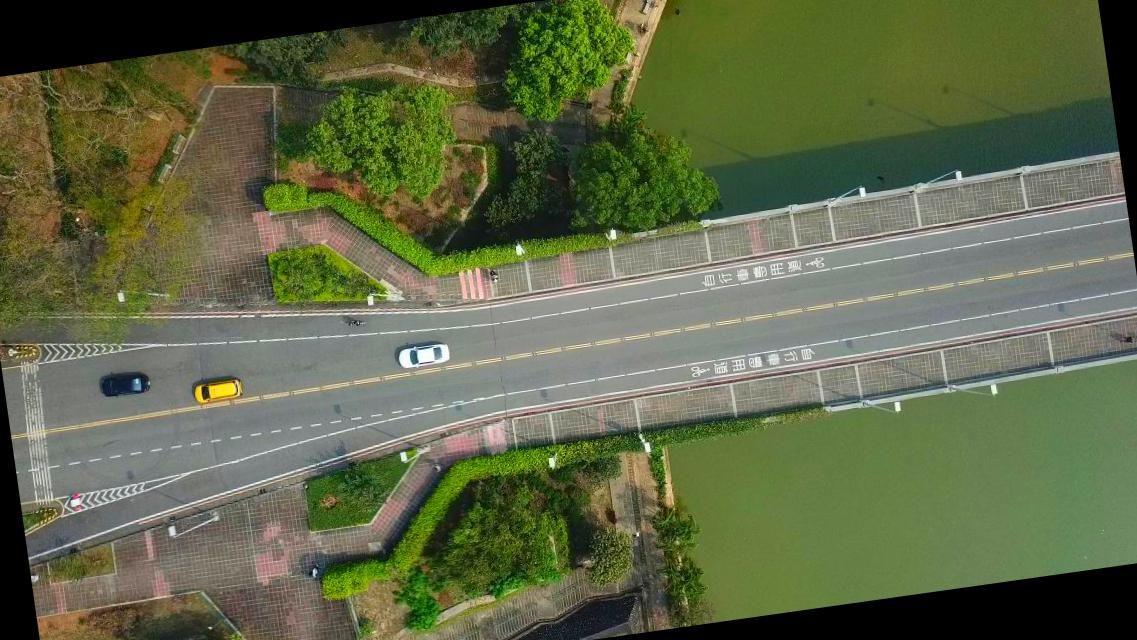vehicle: (396, 340, 451, 370), (98, 369, 151, 399), (192, 375, 244, 405)
